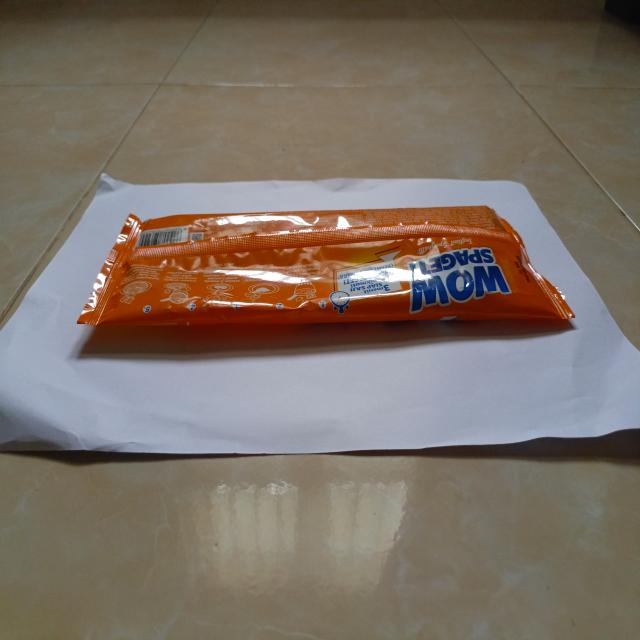indomie-tori-miso: (75, 204, 578, 335)
